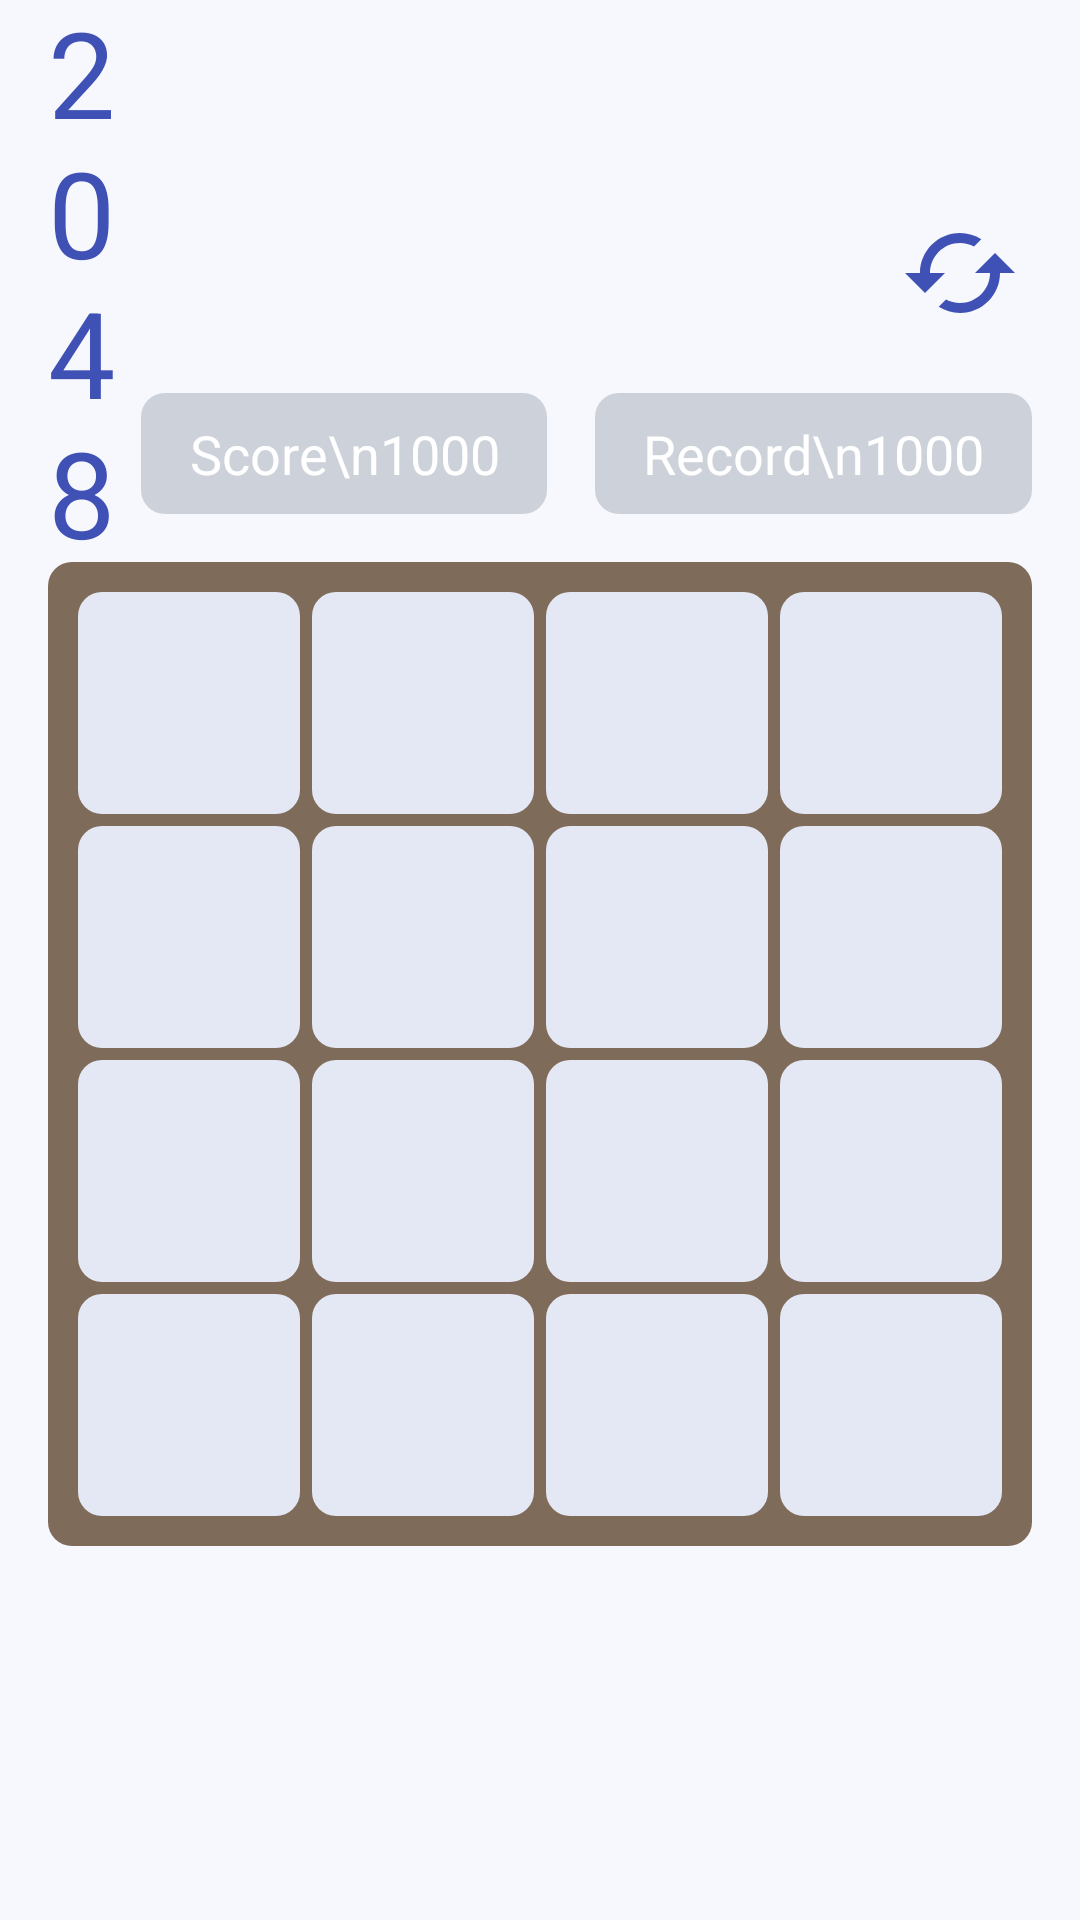

Named icons in this screenshot (1080px×1920px) and their centers, point (x, y):
reload: point (960, 273)
